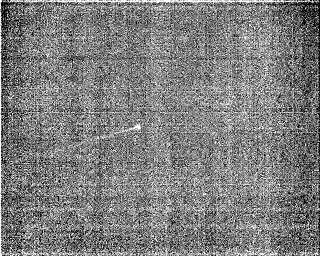AIRPLANE: (68, 122, 143, 150)
